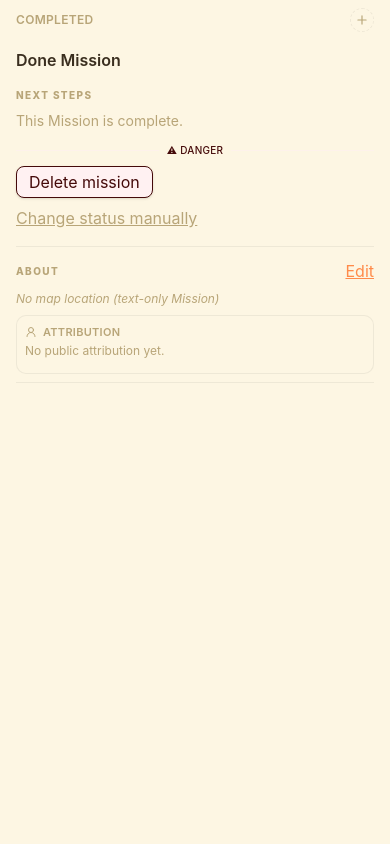
it: MissionDetailSheet — attribution & Award Badge placement › edit mode exposes the Award Badge action for a completed mission
Click the button "Edit". click: (360, 271)
box: [346,259,374,283]
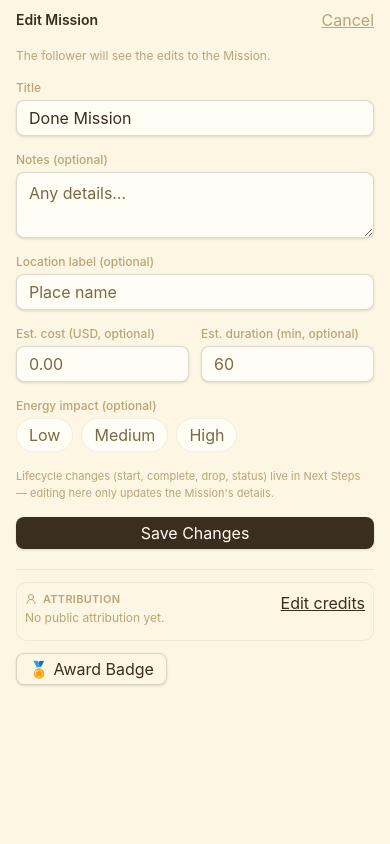
Now the button "🏅 Award Badge" is shown, box [16,652,167,684]
